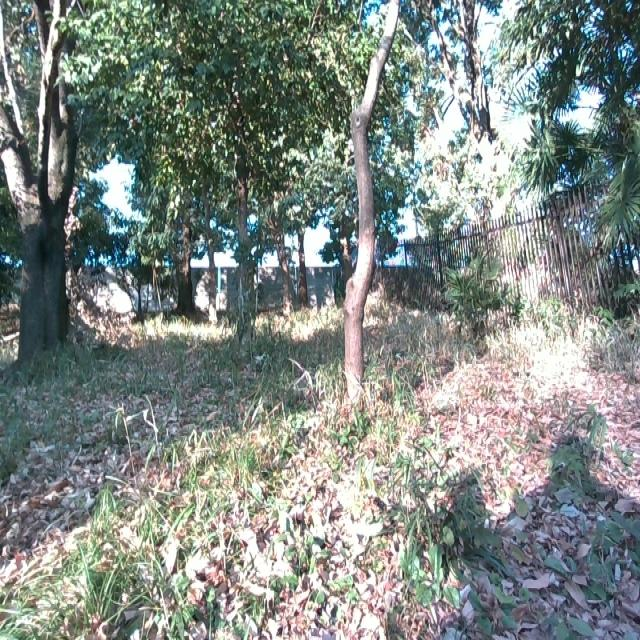artifact: (403, 157, 640, 324), (0, 251, 407, 330)
tree: (309, 0, 403, 411), (0, 0, 84, 368)
